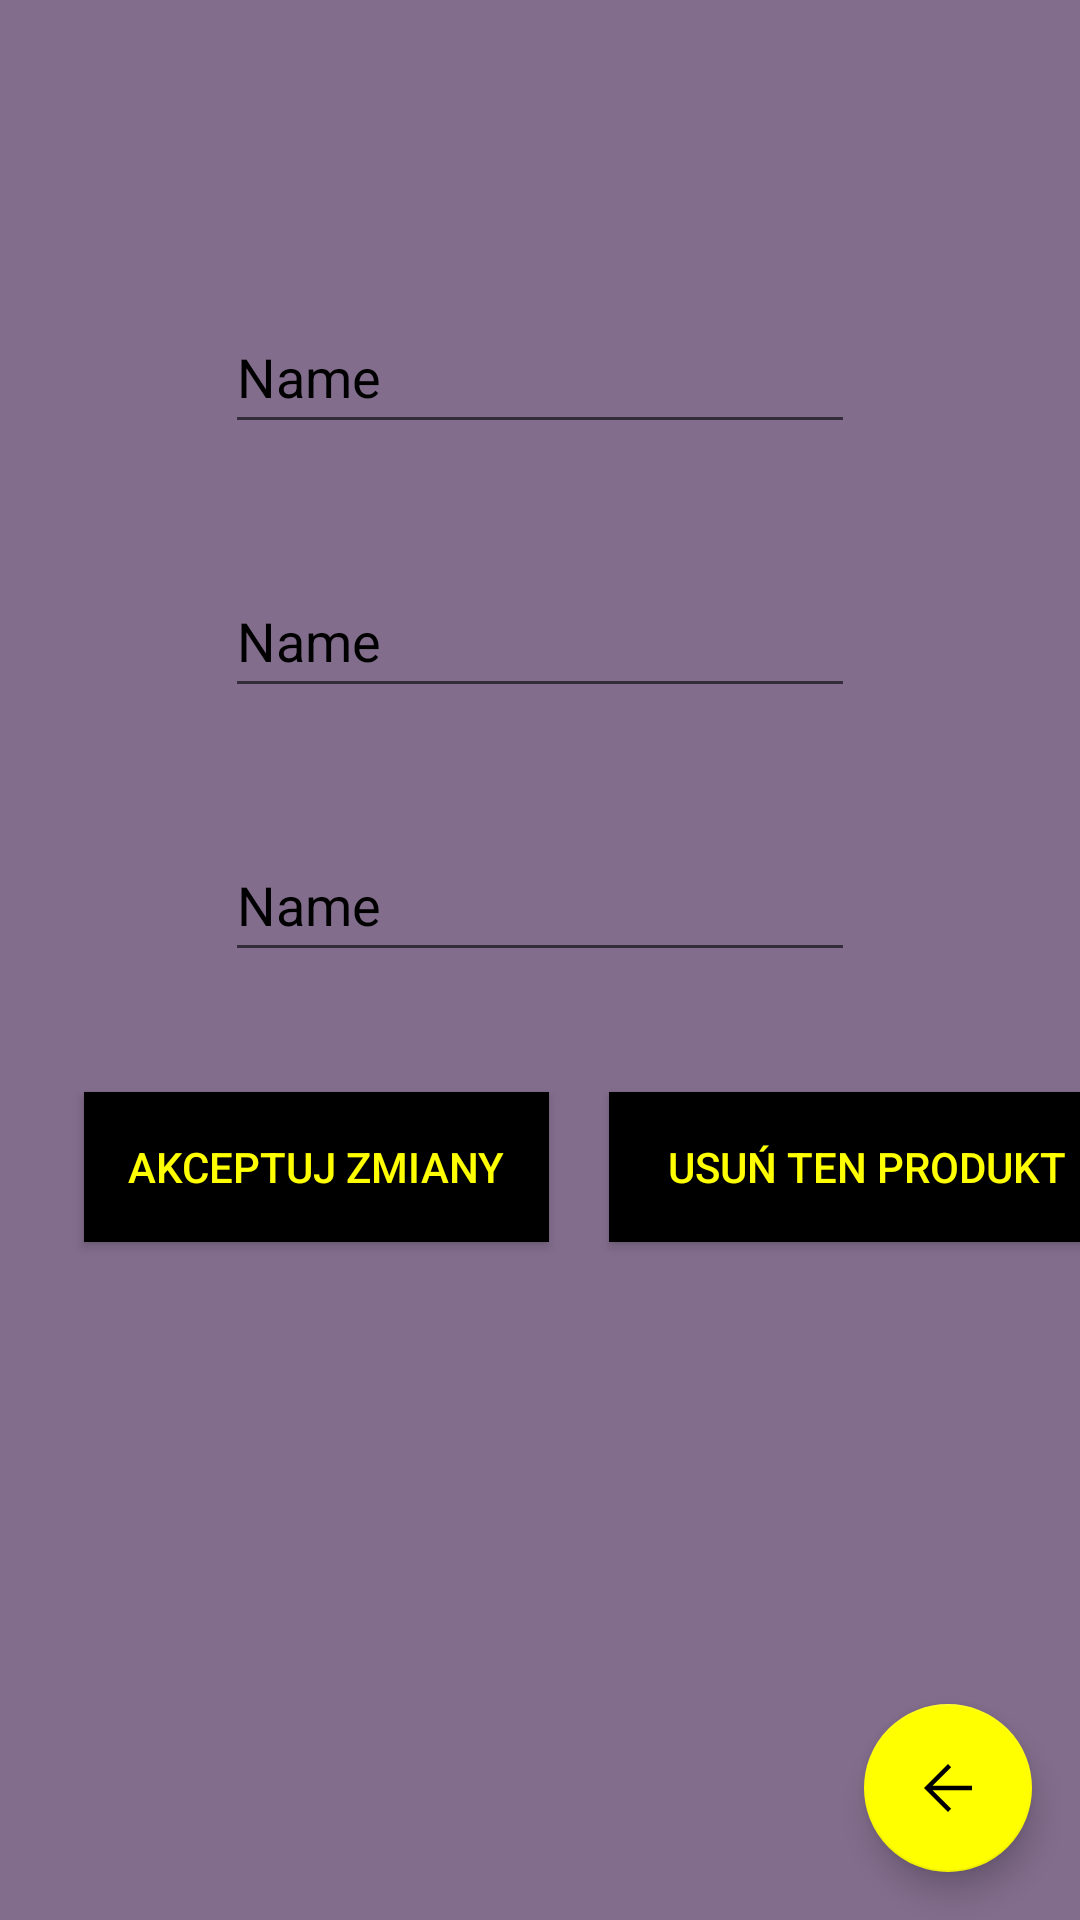

Icon bounding boxes for this 1080w x 1920h phone screenshot, format (x1, y1, x2, y2):
arrow back: (864, 1704, 1032, 1872)
